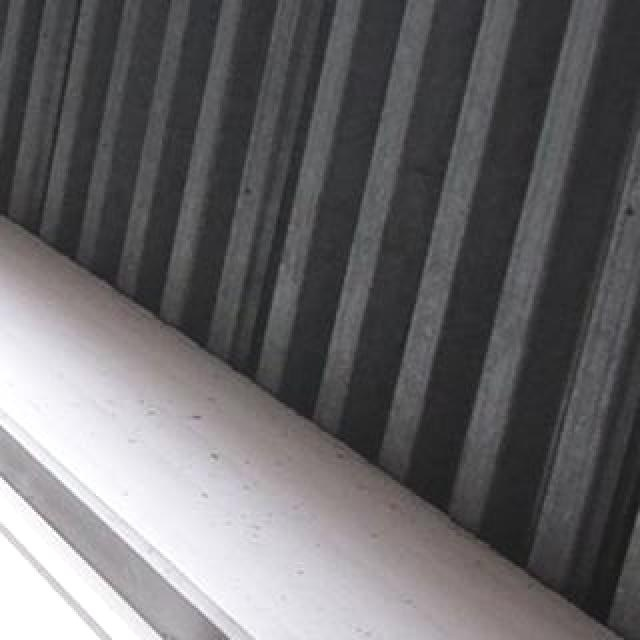fluorescent tube: (0, 132, 484, 640)
